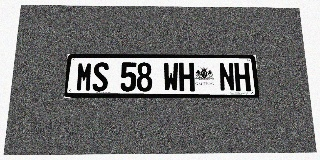5: (120, 62, 136, 91)
8: (137, 62, 152, 91)
H: (234, 63, 251, 91), (179, 62, 195, 91)
M: (76, 62, 93, 92)
N: (219, 63, 235, 91)
S: (92, 62, 109, 92)
W: (163, 62, 179, 91)
